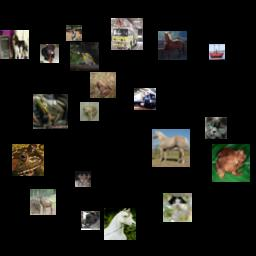bird: (70, 42, 99, 71), (66, 25, 82, 41)
cat: (163, 193, 192, 222), (205, 117, 227, 139), (81, 211, 100, 230)
deer: (30, 189, 56, 215), (75, 171, 91, 187)
dog: (0, 30, 29, 59), (40, 44, 59, 63)
frog: (212, 144, 250, 182), (33, 94, 68, 129), (12, 144, 44, 176), (90, 72, 116, 98), (80, 102, 99, 121)
ship: (209, 44, 225, 60)
truck: (111, 18, 143, 50), (134, 88, 156, 110)
